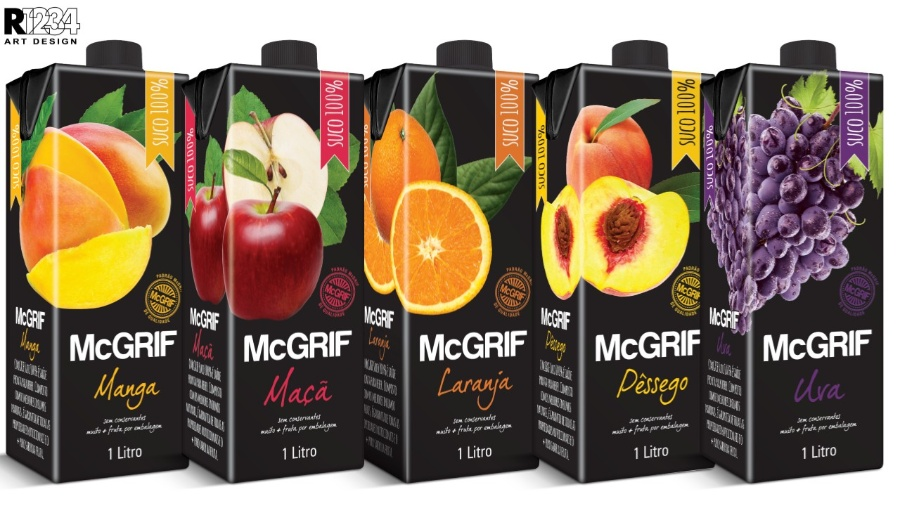juice: (345, 35, 552, 491), (1, 37, 209, 489), (534, 35, 730, 499), (178, 39, 373, 495), (700, 32, 892, 493)
